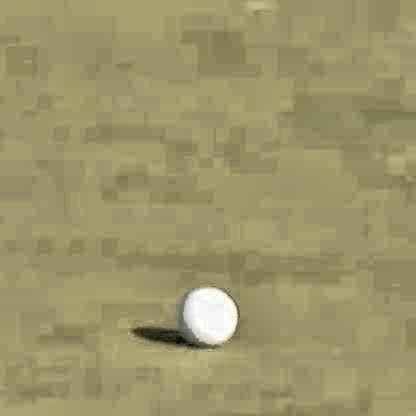golfball: (177, 279, 236, 344)
